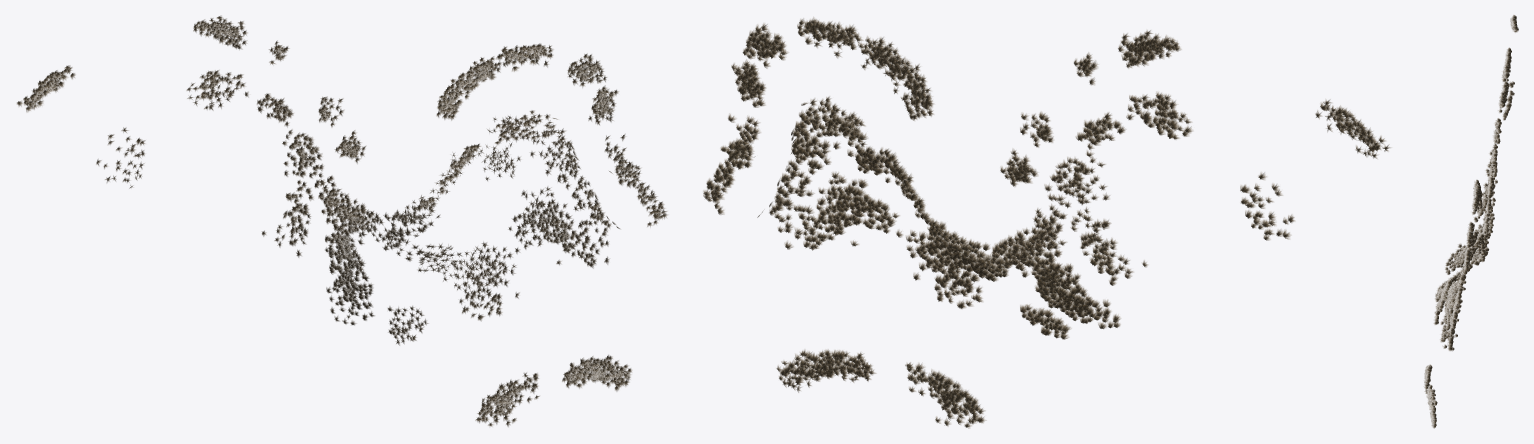
The model's file is trava_suha.glb.
3 views of the same model, side by side, from view 1: azimuth 30°, elevation 25°; view 2: azimuth 150°, elevation 25°; view 3: azimuth 270°, elevation 25° (orthographic). The views are drawn at different scales.
Visible parts, largest first — view 1: Background_Tree_Atlas.010_Grass_Vegetation_Dry_0; view 2: Background_Tree_Atlas.010_Grass_Vegetation_Dry_0; view 3: Background_Tree_Atlas.010_Grass_Vegetation_Dry_0.
Part boxes in pixels (x1=…): Background_Tree_Atlas.010_Grass_Vegetation_Dry_0: x1=17, y1=15, x2=667, y2=426; Background_Tree_Atlas.010_Grass_Vegetation_Dry_0: x1=703, y1=17, x2=1390, y2=428; Background_Tree_Atlas.010_Grass_Vegetation_Dry_0: x1=1424, y1=15, x2=1518, y2=428.
Bounding box in the file's own units: 211 × 141 × 45.47.
Materials: 1 (1 with a texture image).
